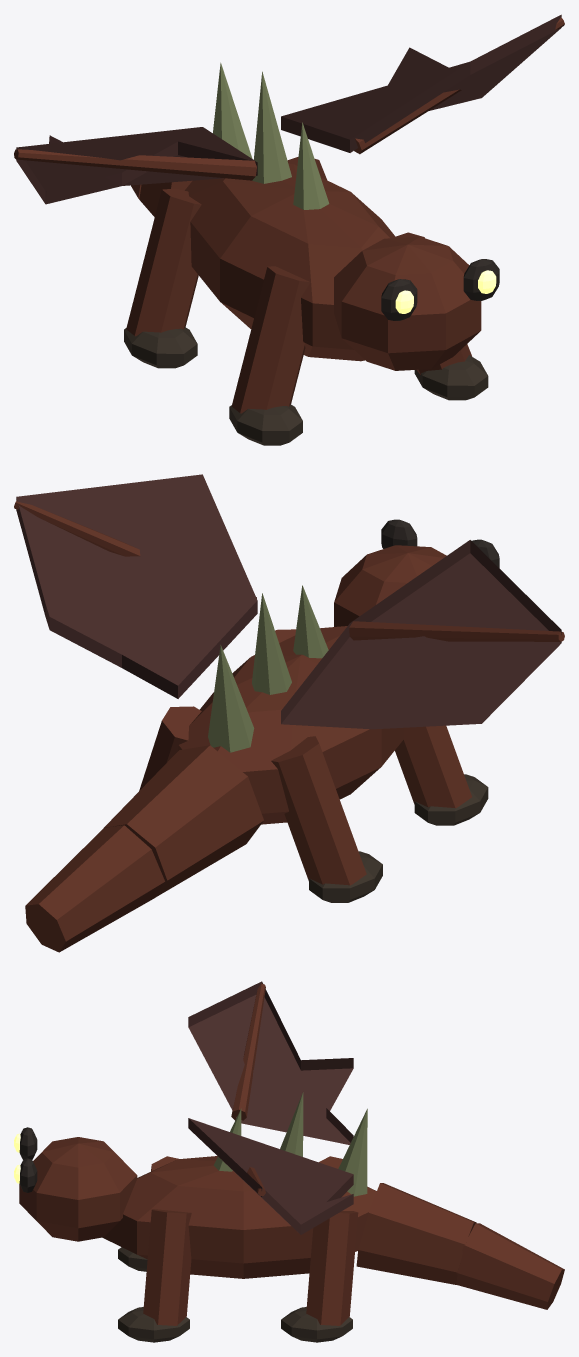
File: fauna-cinder_drake.glb
3 views of the same model, one above another, from view 1: azimuth 30°, elevation 25°; view 2: azimuth 150°, elevation 25°; view 3: azimuth 270°, elevation 25° (orthographic). The views are drawn at different scales.
Parts seen in each view (by area): view 1: Fauna_cinder_drake; view 2: Fauna_cinder_drake; view 3: Fauna_cinder_drake.
Part boxes in pixels (bbox=[...]): Fauna_cinder_drake: bbox=[14, 14, 564, 445]; Fauna_cinder_drake: bbox=[14, 474, 564, 952]; Fauna_cinder_drake: bbox=[14, 981, 564, 1342].
Size of the model in its own units: 2.13 by 1.13 by 2.4.
